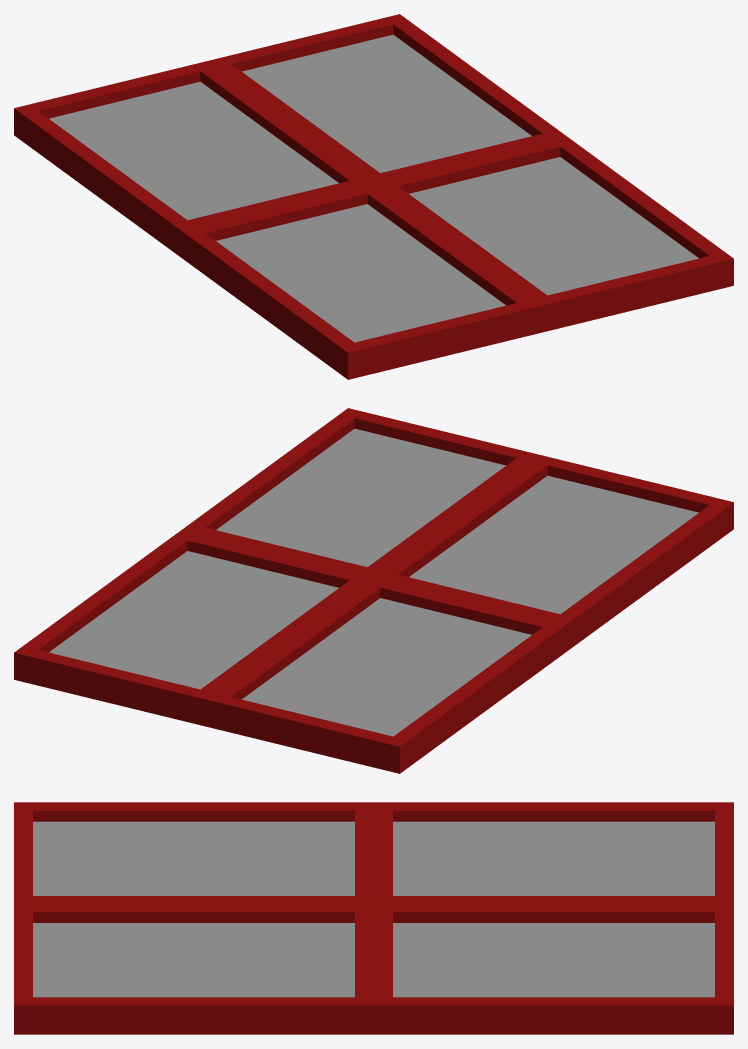
The model's file is Window.FBX.
The picture shows the model from 3 angles, top to bottom: view 1: azimuth 30°, elevation 25°; view 2: azimuth 150°, elevation 25°; view 3: azimuth 270°, elevation 25°; orthographic projection. The views are drawn at different scales.
Visible parts, largest first — view 1: Box001; view 2: Box001; view 3: Box001.
Boxes of the visible parts, x1,y1,x2,y2 form: Box001: [14, 14, 733, 379]; Box001: [14, 408, 733, 773]; Box001: [14, 802, 733, 1034].
Size of the model in its own units: 20 by 1.34 by 30.
